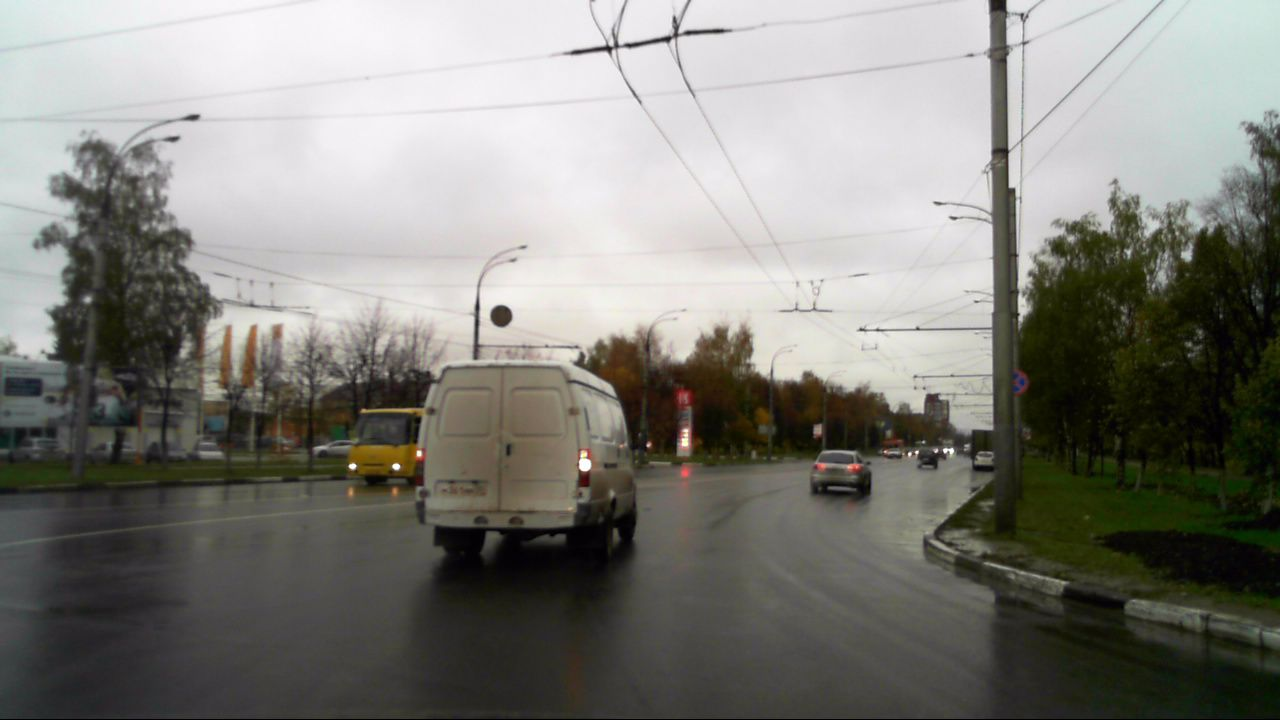No Parking: (1003, 369, 1029, 395)
